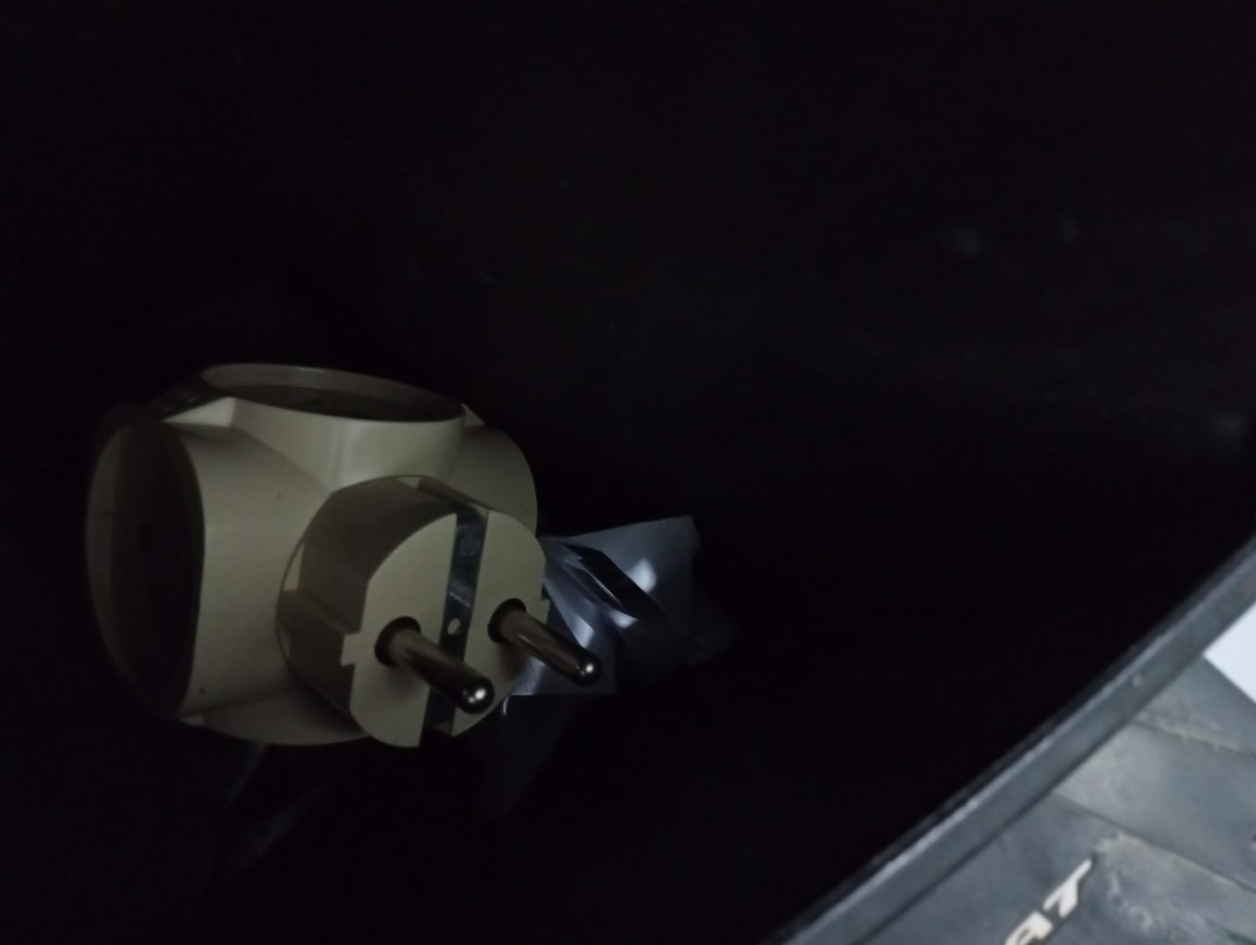Colokan: (48, 344, 653, 797)
